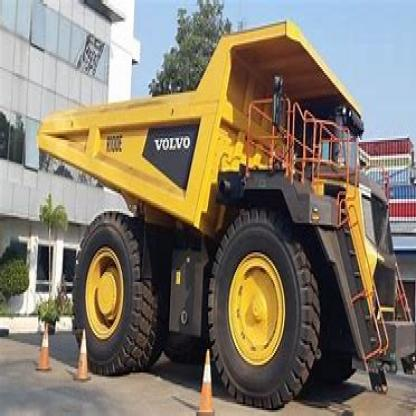dump_truck: (35, 18, 415, 400)
